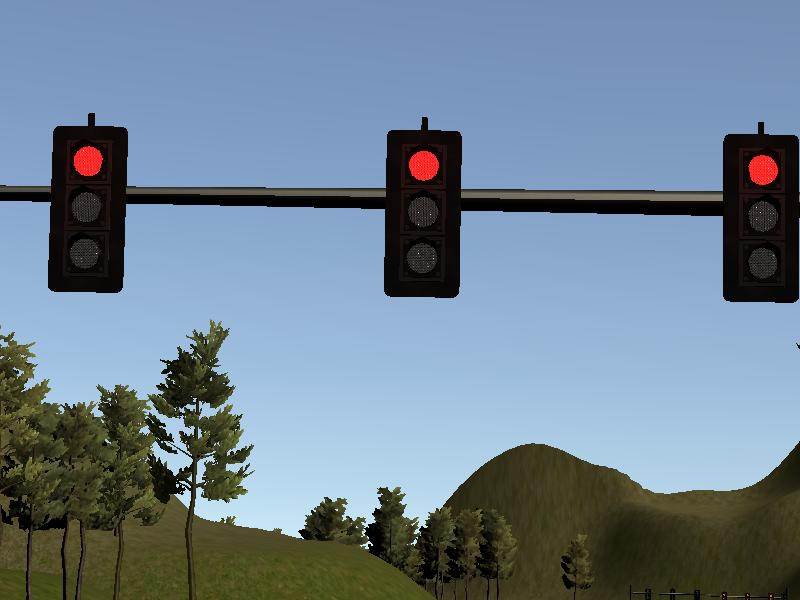red: (722, 134, 798, 302), (386, 130, 460, 295), (52, 126, 124, 294)
